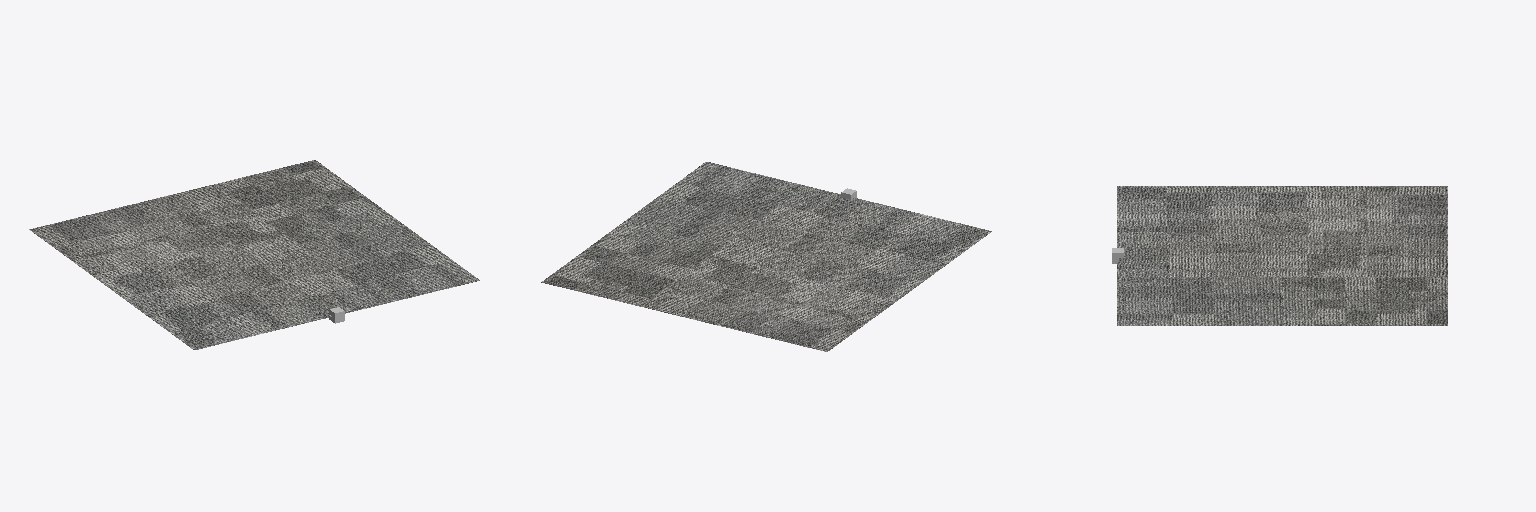
3 renders of one model, left to right at view 1: azimuth 30°, elevation 25°; view 2: azimuth 150°, elevation 25°; view 3: azimuth 270°, elevation 25°, orthographic.
Parts seen in each view (by area): view 1: Plane; view 2: Plane; view 3: Plane.
Part boxes in pixels (x1,y1,x2,y2): Plane: (29, 160, 479, 349); Plane: (541, 162, 991, 351); Plane: (1117, 186, 1447, 325).
Size of the model in its own units: 58.27 by 2 by 59.13.
Materials: 2 (1 with a texture image).